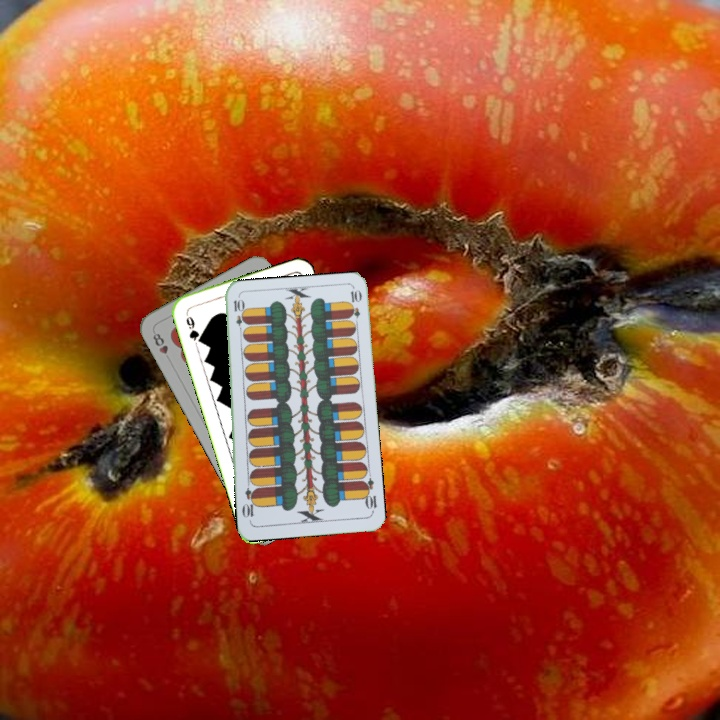E10: (358, 475, 379, 515), (230, 295, 246, 336)
G9: (182, 308, 204, 346)
H8: (149, 329, 171, 357)
